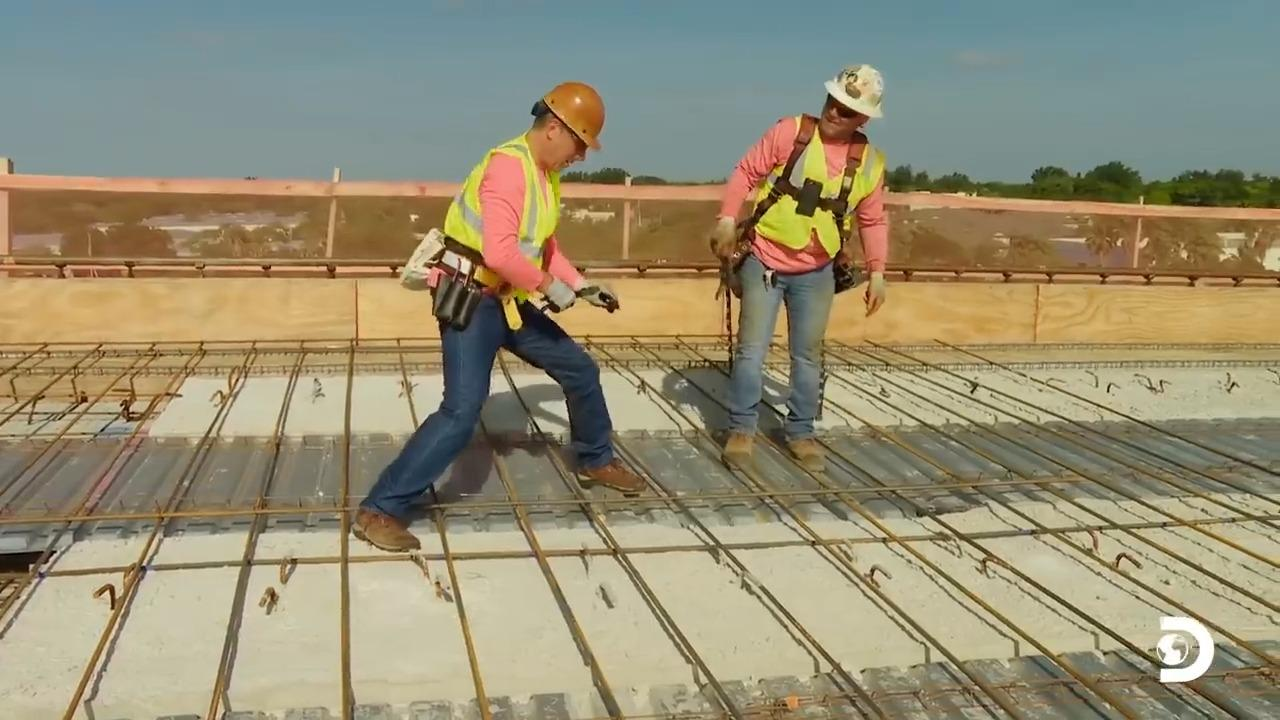Gloves: (706, 215, 746, 266), (582, 282, 624, 313), (541, 277, 576, 312), (864, 274, 888, 322)
Helmet: (536, 81, 605, 150), (823, 63, 884, 118)
Person: (351, 80, 647, 552), (708, 63, 889, 472)
Safety Boot: (353, 512, 425, 552), (577, 461, 651, 497), (778, 437, 828, 477), (720, 420, 755, 470)
Safety Vest: (462, 163, 552, 296), (768, 140, 857, 262)
